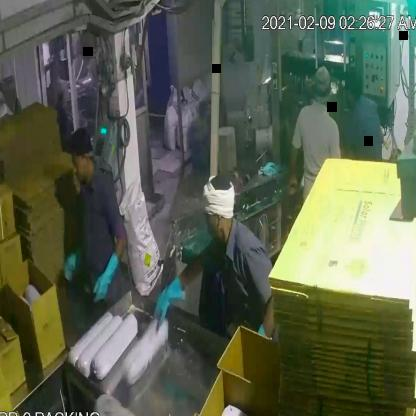glove: (146, 262, 193, 335), (92, 248, 125, 312), (59, 239, 89, 286)
no_glove: (285, 140, 302, 200)
